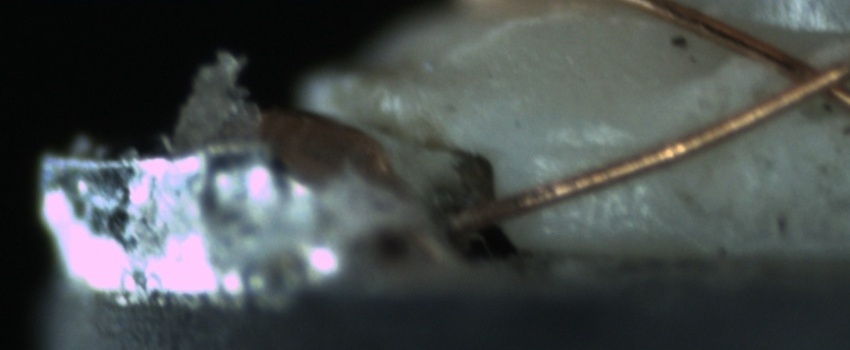CL: (754, 45, 849, 120)
DL: (525, 115, 641, 176)
